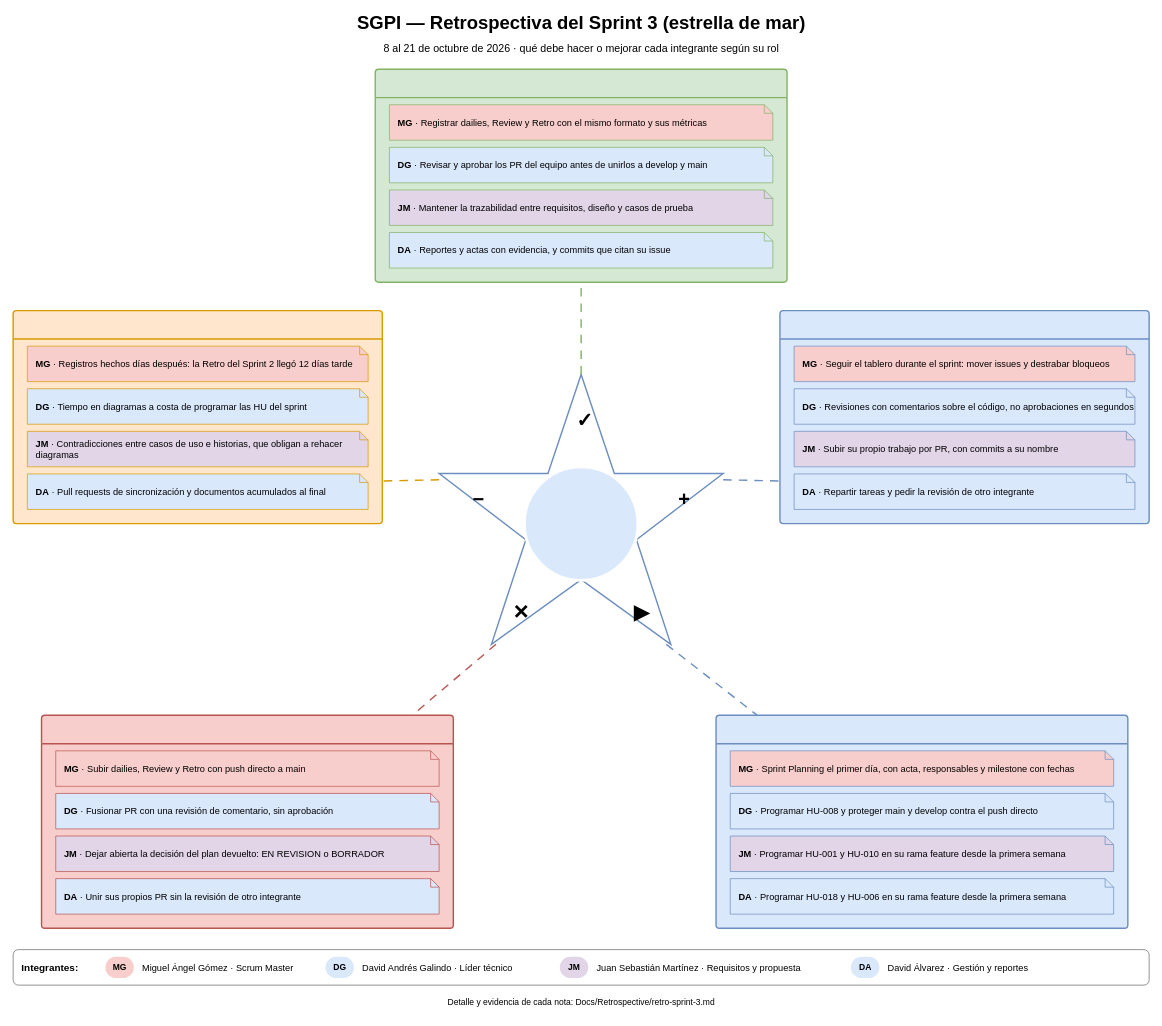
This 1162x1026 diagram has some shape labels left out. Each missing label, with the box of its shape:
+ Hacer más: (779, 310, 1149, 524)
Sprint 3 Retrospectiva: (523, 465, 639, 581)
− Hacer menos: (12, 310, 383, 524)
▶ Empezar a hacer: (715, 714, 1128, 929)
✓ Seguir haciendo: (374, 68, 787, 283)
✕ Dejar de hacer: (40, 714, 454, 929)
